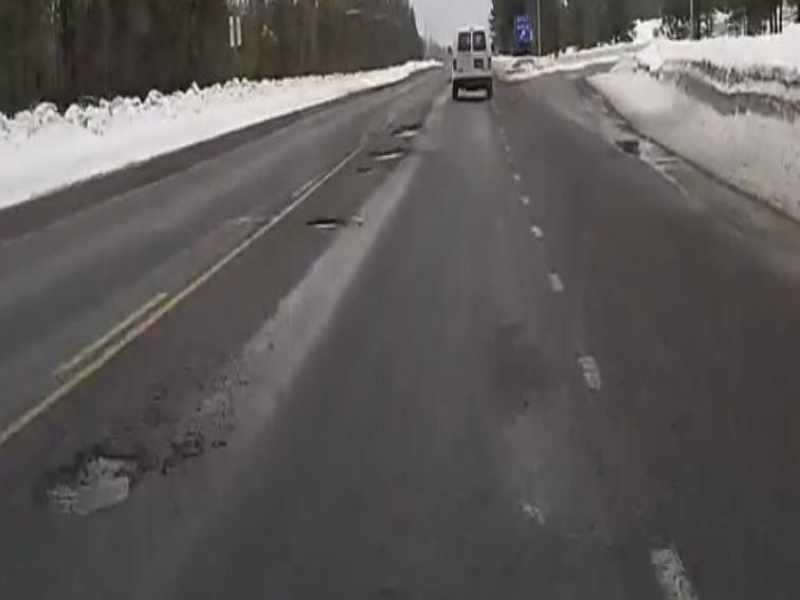pothole: (38, 450, 149, 515), (303, 212, 345, 233)
